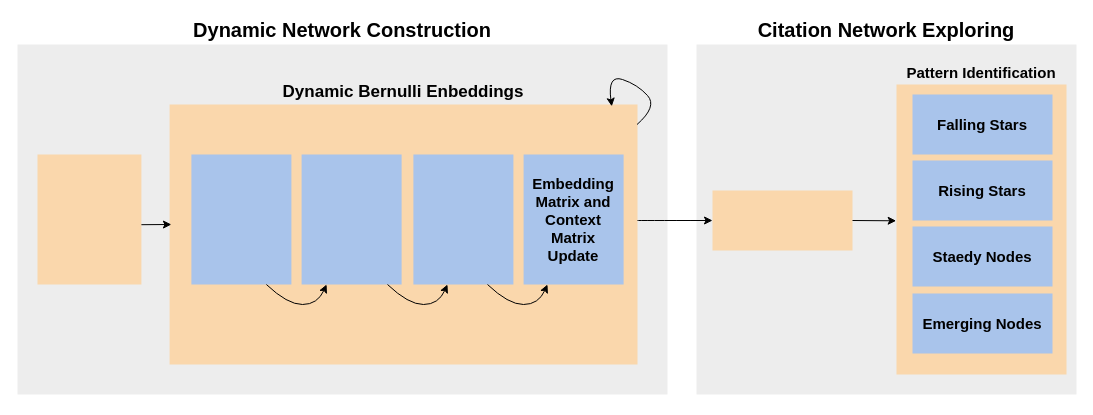
Some shapes in this 1093 by 415 pixel diagram are drawn without their labels. Each missing label, with the centre of its shape:
Calculations & Clustering: point (782, 220)
Initial Construction: point (89, 219)
Loss Optimization: point (463, 219)
Negative Sampling Calculation: point (351, 219)
Random Walks: point (241, 219)
